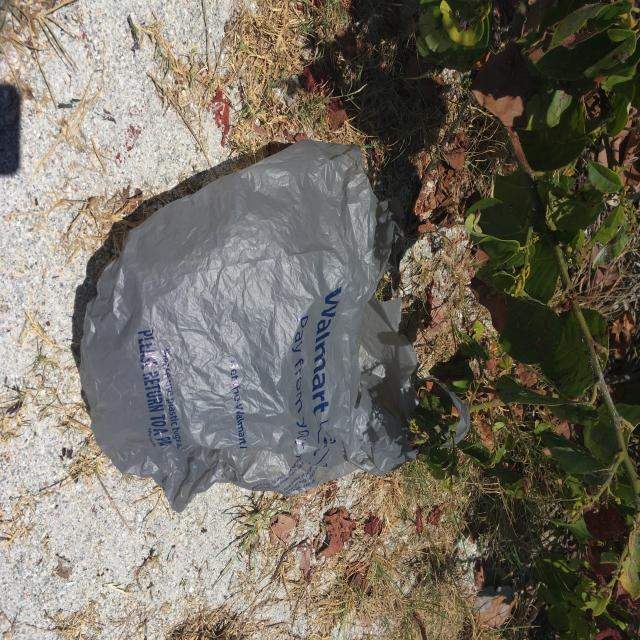litter: (162, 120, 567, 503)
